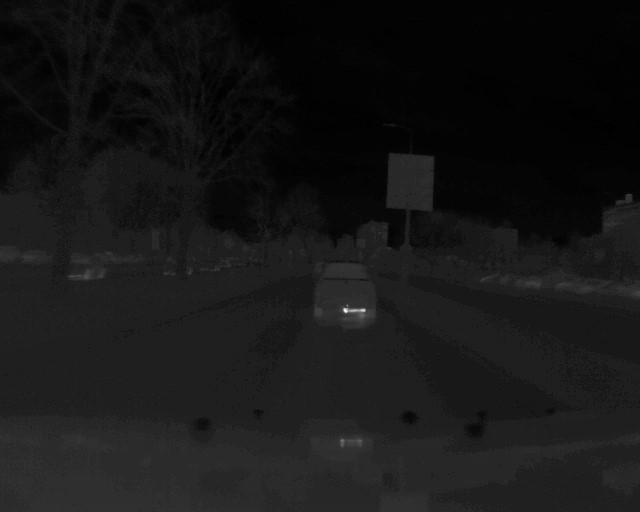car: (315, 259, 377, 331), (67, 257, 111, 282)
